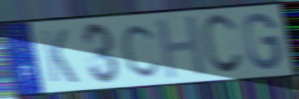3: (80, 21, 121, 87)
C: (200, 12, 246, 78), (120, 21, 164, 80)
G: (241, 11, 284, 72)
H: (154, 13, 210, 82)
K: (38, 27, 80, 85)
